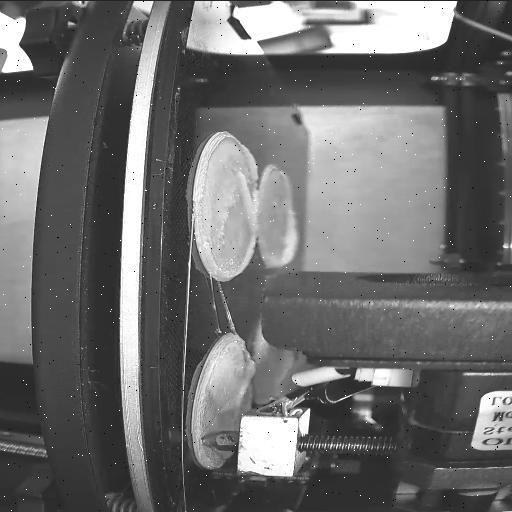over_extrusion: (234, 142, 260, 232), (206, 236, 260, 278), (270, 208, 300, 268), (232, 350, 258, 414)
